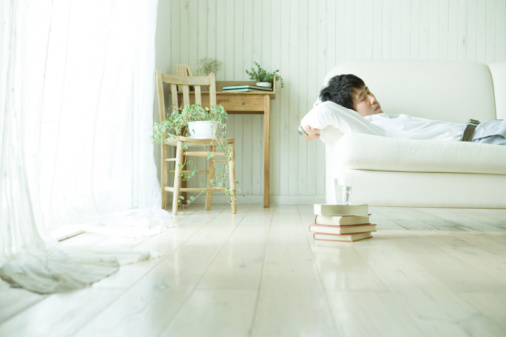deitado: (292, 72, 405, 202)
